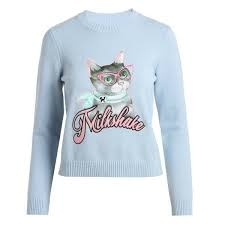cat: (79, 48, 140, 104)
